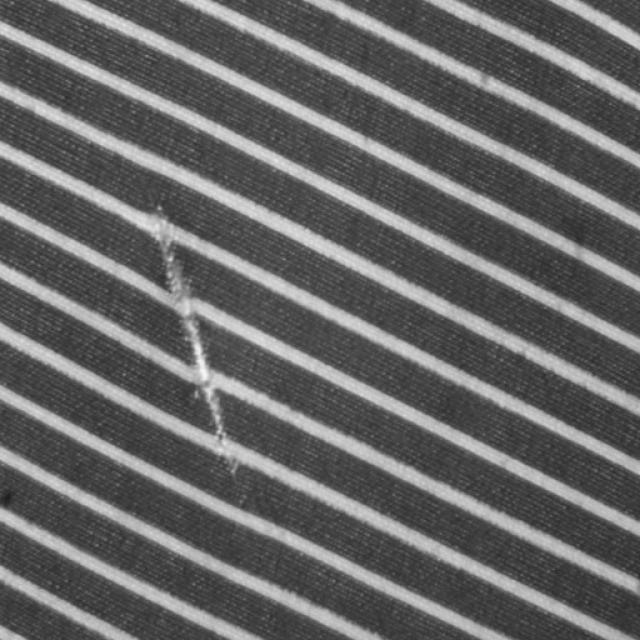Hole-Defect: (151, 205, 242, 485)
